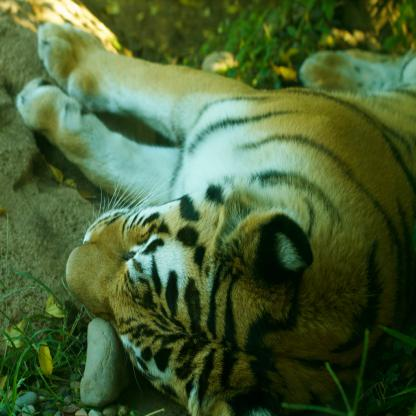Tiger: (17, 23, 416, 416)
